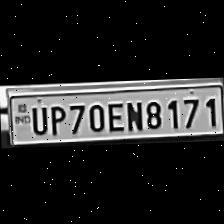0: (84, 99, 104, 130)
1: (200, 94, 218, 128), (162, 96, 180, 128)
7: (177, 94, 199, 128), (64, 98, 84, 132)
8: (142, 96, 162, 129)
E: (104, 98, 124, 132)
N: (122, 96, 142, 130)
P: (46, 101, 66, 135)
U: (26, 101, 48, 134)
